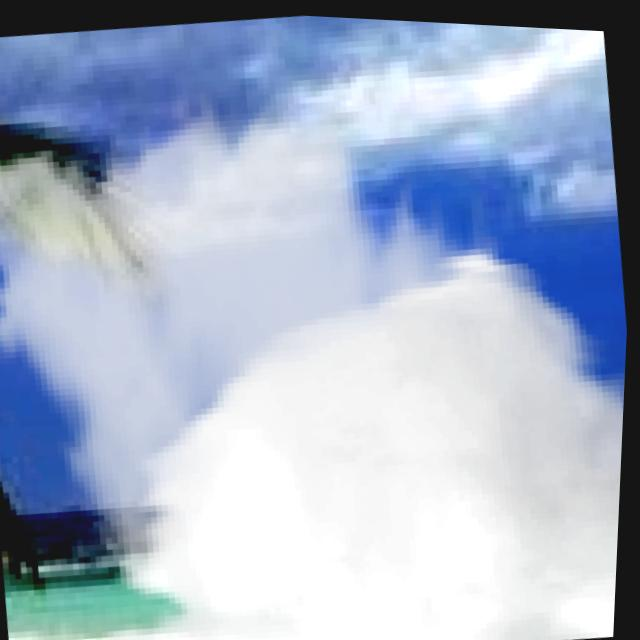smoke: (0, 27, 639, 640)
